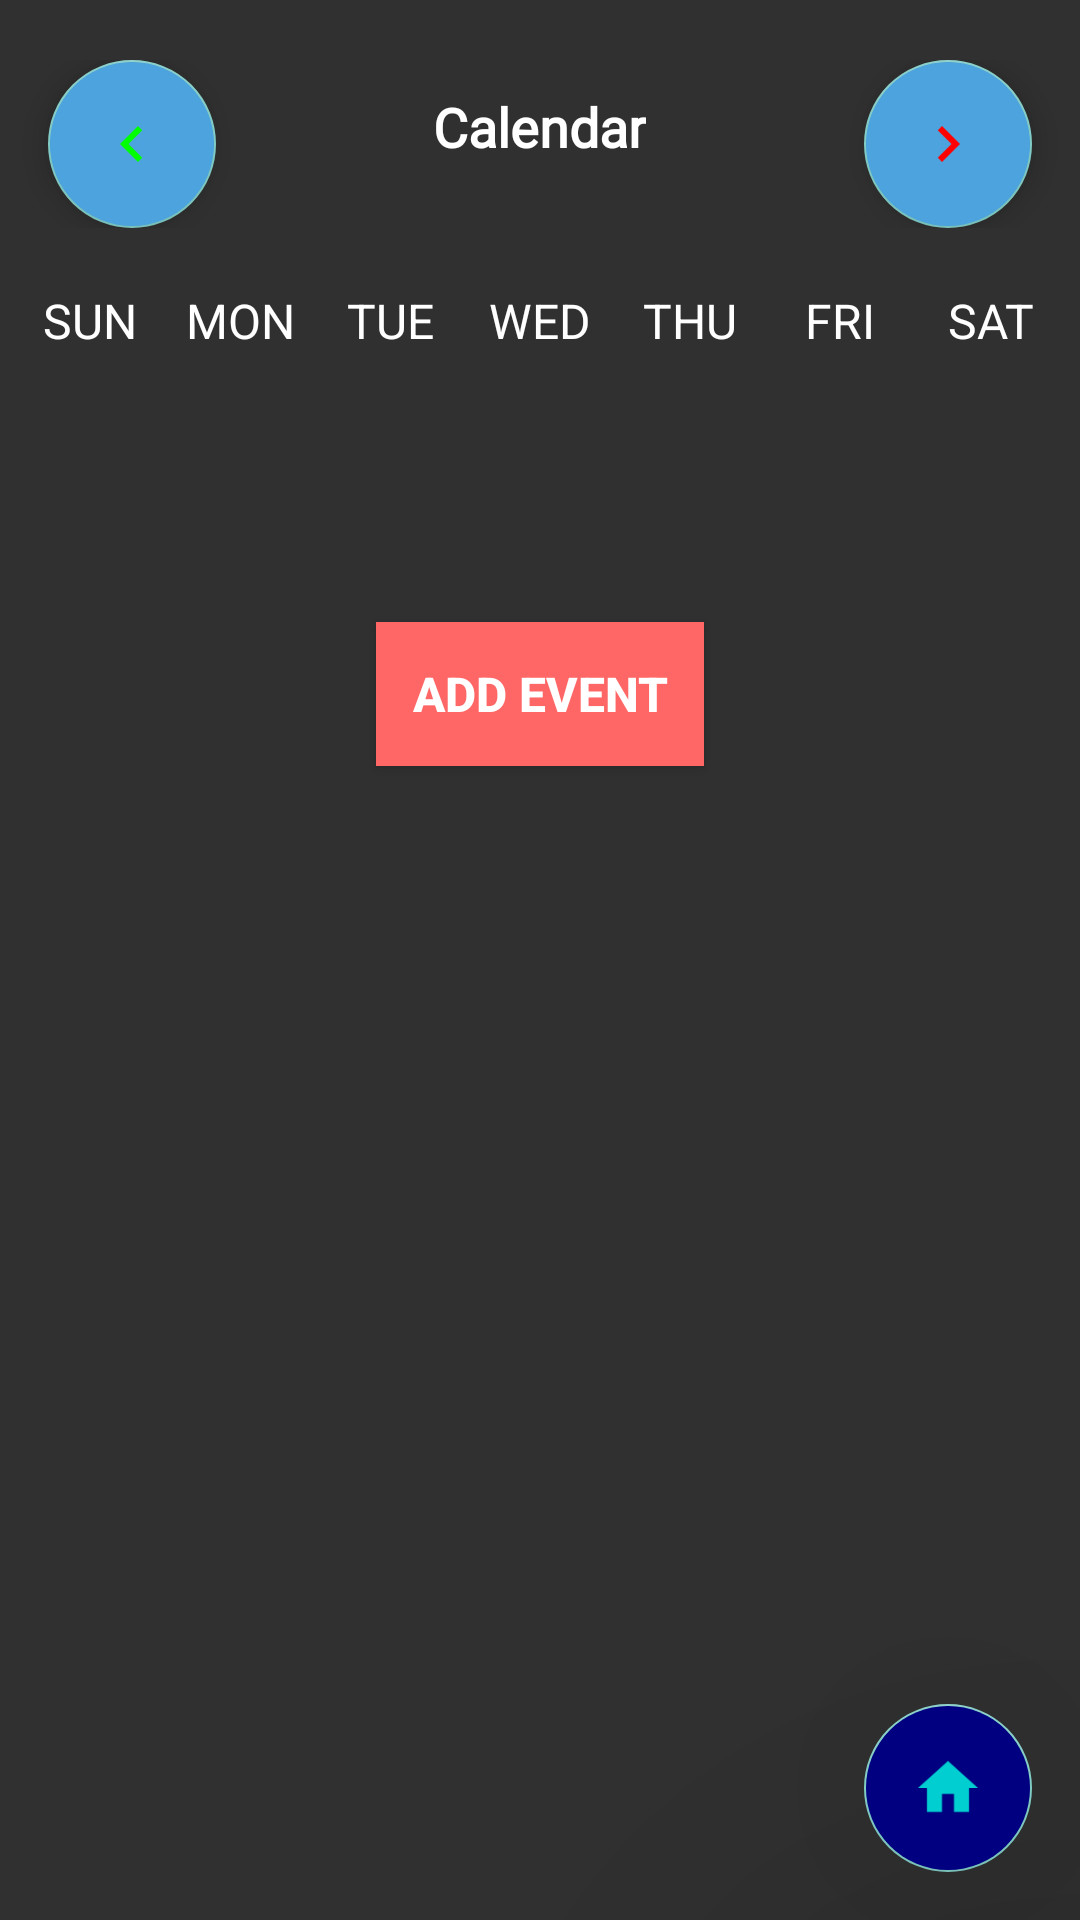

Icon click points for this 1080×1920 phone screenshot, format (x=x, y=y):
before: (x=132, y=144)
home: (x=948, y=1788)
next: (x=948, y=144)
